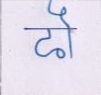o_matra: (62, 12, 77, 59)
